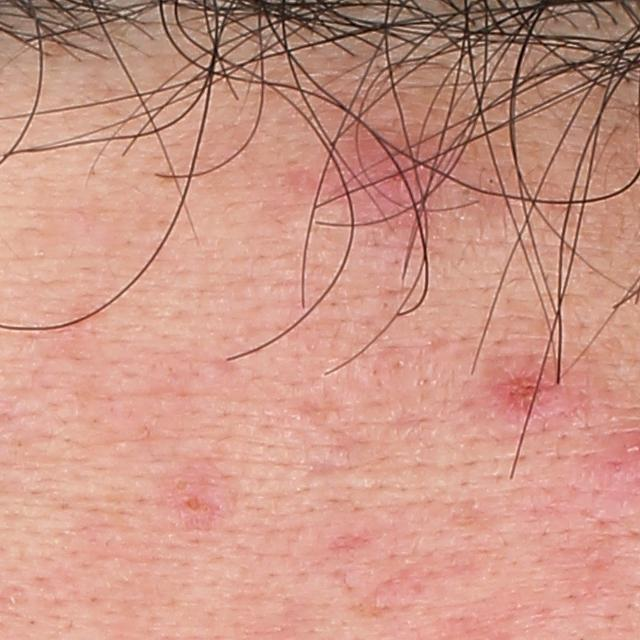papule: (488, 368, 560, 424), (176, 468, 221, 526)
